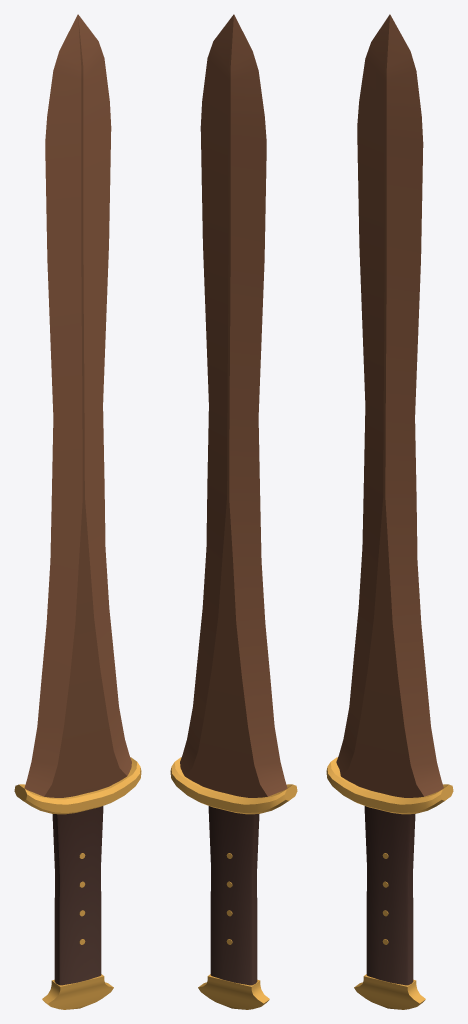
The model's file is SM_Sword19_Xiphos_4Bronze.fbx.
3 renders of one model, left to right at view 1: azimuth 30°, elevation 25°; view 2: azimuth 150°, elevation 25°; view 3: azimuth 330°, elevation 25°, orthographic.
Visible parts, largest first — view 1: Cube.403, Cube.405, Cube.404, Cube.406; view 2: Cube.403, Cube.405, Cube.404, Cube.406; view 3: Cube.403, Cube.405, Cube.404, Cube.406.
Part boxes in pixels (bbox=[...]): Cube.403: bbox=[24, 14, 131, 797]; Cube.405: bbox=[52, 806, 103, 985]; Cube.404: bbox=[14, 757, 141, 814]; Cube.406: bbox=[42, 974, 113, 1009]; Cube.403: bbox=[180, 14, 287, 797]; Cube.405: bbox=[208, 806, 259, 985]; Cube.404: bbox=[170, 757, 297, 814]; Cube.406: bbox=[198, 974, 269, 1009]; Cube.403: bbox=[336, 14, 443, 797]; Cube.405: bbox=[364, 806, 415, 985]; Cube.404: bbox=[326, 757, 453, 814]; Cube.406: bbox=[354, 974, 425, 1009].
Size of the model in its own units: 0.0868 by 0.7078 by 0.0316.
